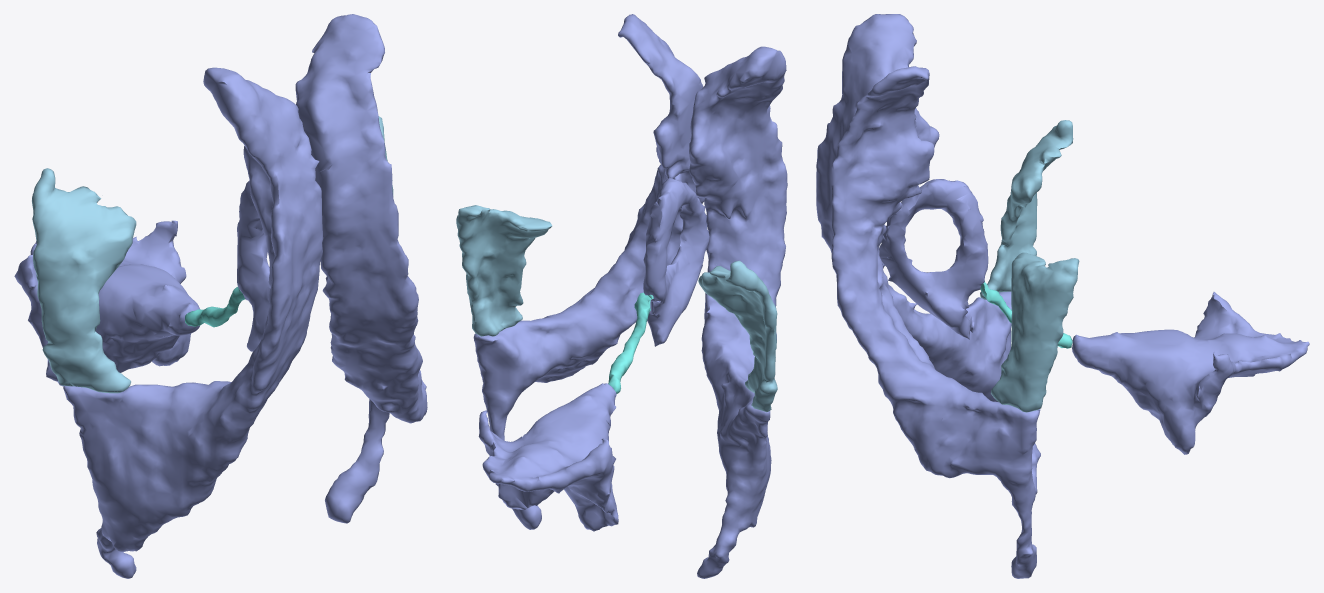
Rendered from ventricles.glb.
3 views of the same model, side by side, from view 1: azimuth 30°, elevation 25°; view 2: azimuth 150°, elevation 25°; view 3: azimuth 270°, elevation 25° (orthographic). The views are drawn at different scales.
Visible parts, largest first — view 1: spl-4, spl-43, spl-5, spl-15, spl-24, spl-19; view 2: spl-4, spl-43, spl-15, spl-44, spl-24, spl-5, spl-19; view 3: spl-43, spl-15, spl-4, spl-24, spl-44, spl-5.
Part boxes in pixels (bbox=[...]): spl-4: bbox=[63, 67, 323, 578]; spl-43: bbox=[295, 14, 427, 523]; spl-5: bbox=[32, 168, 136, 393]; spl-15: bbox=[14, 220, 199, 386]; spl-24: bbox=[237, 180, 269, 351]; spl-19: bbox=[185, 286, 244, 327]; spl-4: bbox=[689, 46, 787, 578]; spl-43: bbox=[473, 14, 704, 529]; spl-15: bbox=[478, 383, 618, 531]; spl-44: bbox=[456, 205, 552, 336]; spl-24: bbox=[643, 177, 709, 346]; spl-5: bbox=[698, 260, 777, 412]; spl-19: bbox=[608, 292, 653, 393]; spl-43: bbox=[831, 66, 1040, 578]; spl-15: bbox=[1072, 292, 1309, 454]; spl-4: bbox=[816, 14, 1040, 494]; spl-24: bbox=[879, 179, 988, 339]; spl-44: bbox=[991, 252, 1079, 412]; spl-5: bbox=[980, 120, 1073, 299].
Size of the model in its own units: 70.28 by 106 by 96.2.
